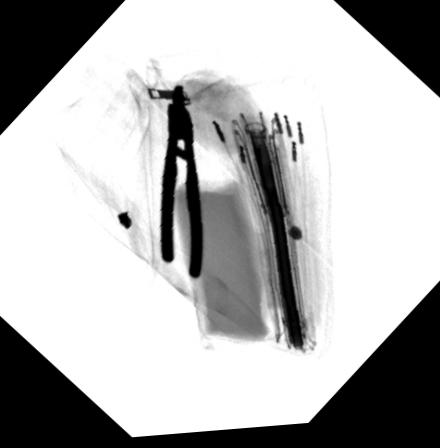Pliers: (158, 85, 203, 281)
